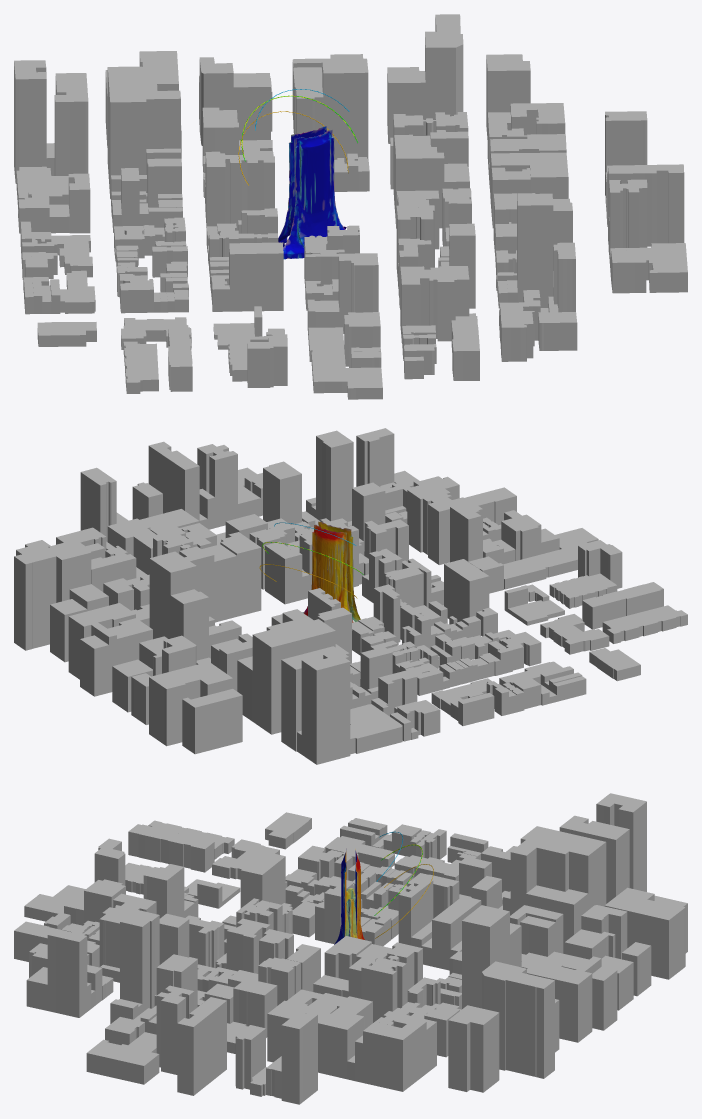
The model's file is solar_radiation_example_image.glb.
The picture shows the model from 3 angles, top to bottom: view 1: azimuth 30°, elevation 25°; view 2: azimuth 150°, elevation 25°; view 3: azimuth 270°, elevation 25°; orthographic projection. The views are drawn at different scales.
Visible parts, largest first — view 1: world; view 2: world; view 3: world.
Boxes of the visible parts, bbox=[...] form: world: bbox=[14, 14, 687, 399]; world: bbox=[14, 428, 687, 764]; world: bbox=[14, 793, 687, 1104].
Bounding box in the file's own units: 5636 × 1184 × 5698.
